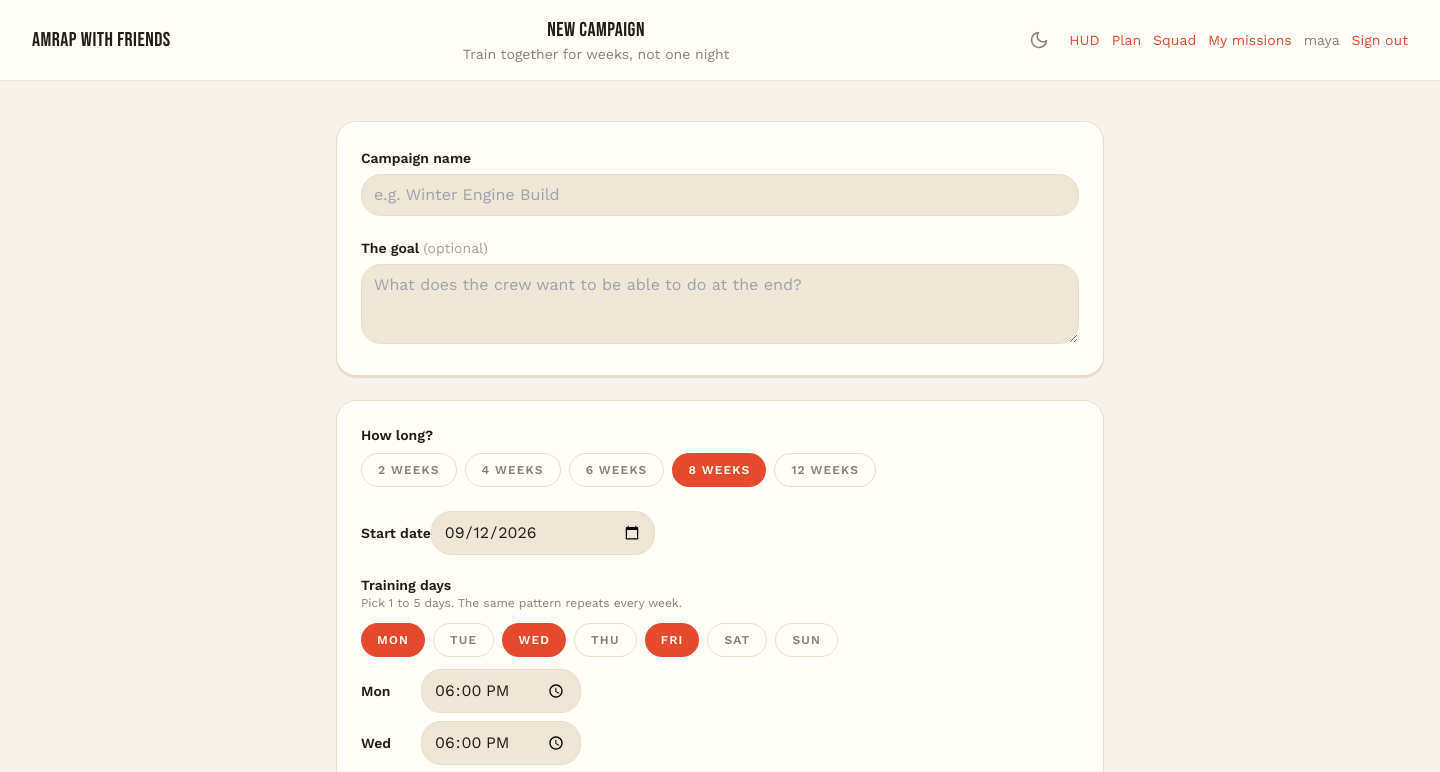
Scenario: CreateCampaignPage › keeps submit disabled until the campaign is named
Type "Winter Engine Build" into the field labelled "Campaign name" at (720, 195), box [361, 174, 1079, 216]
(page scrolled)
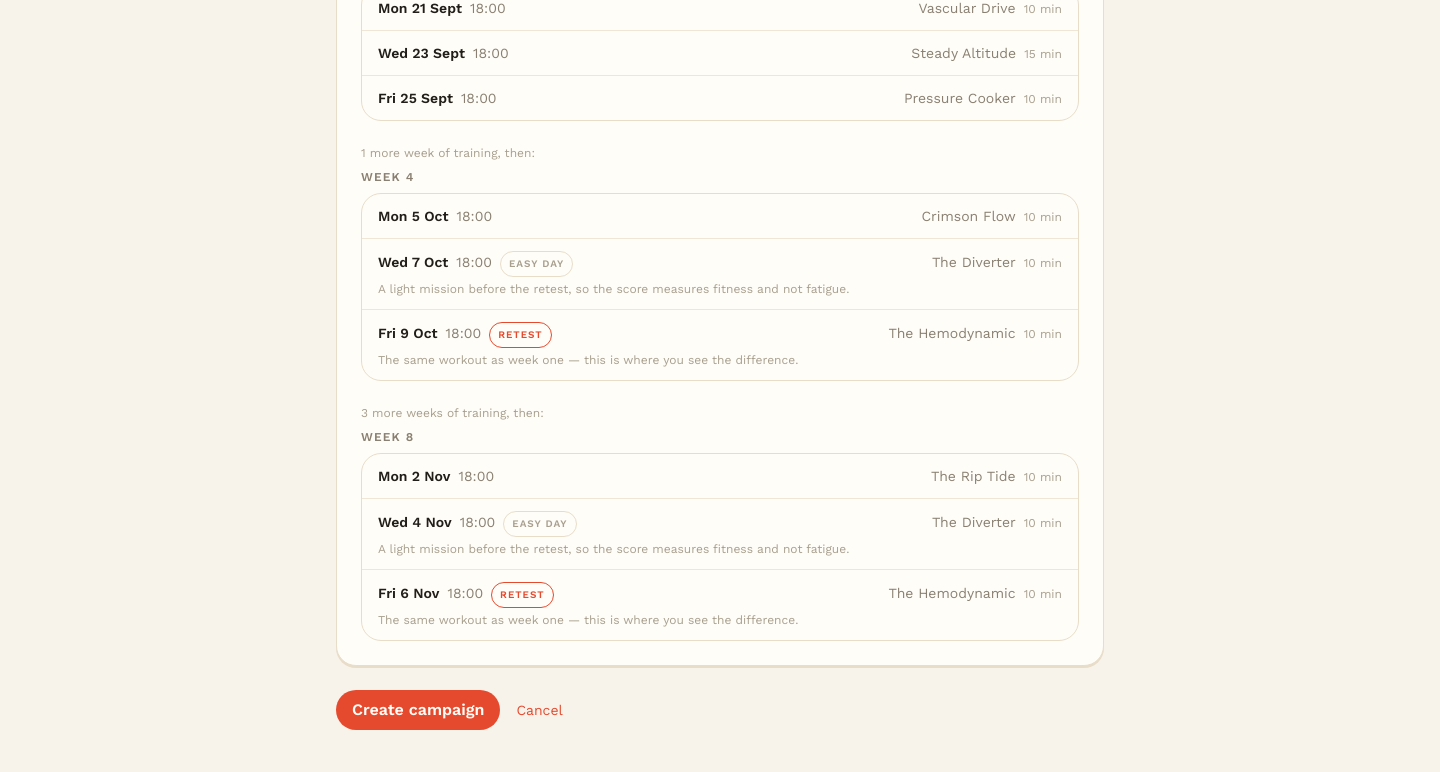
Result: the button "Create campaign" is enabled at [336, 690, 500, 730]
